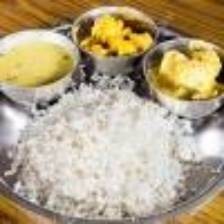rice: (2, 80, 196, 221)
